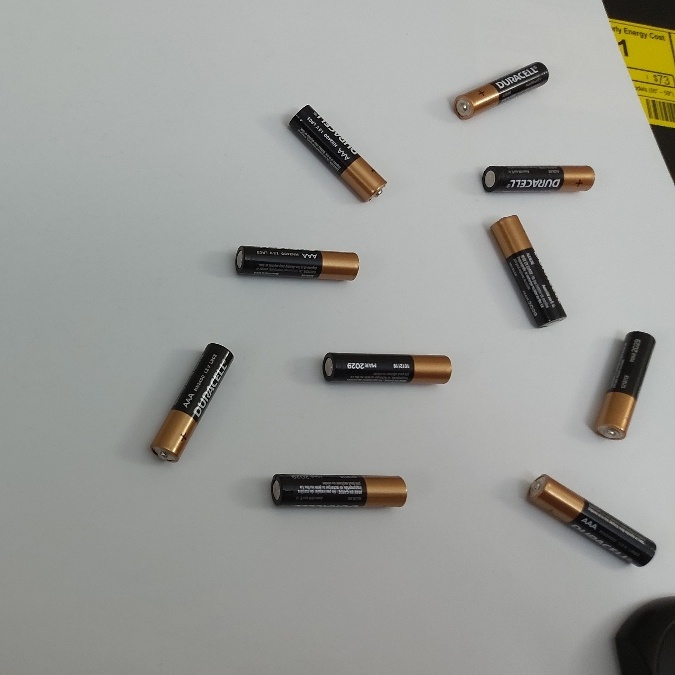battery: (521, 471, 657, 567), (290, 100, 387, 208), (151, 340, 230, 465), (491, 213, 568, 329), (590, 326, 657, 443), (448, 53, 553, 121), (230, 238, 364, 281), (315, 348, 458, 387), (265, 472, 407, 511), (479, 161, 600, 196)
